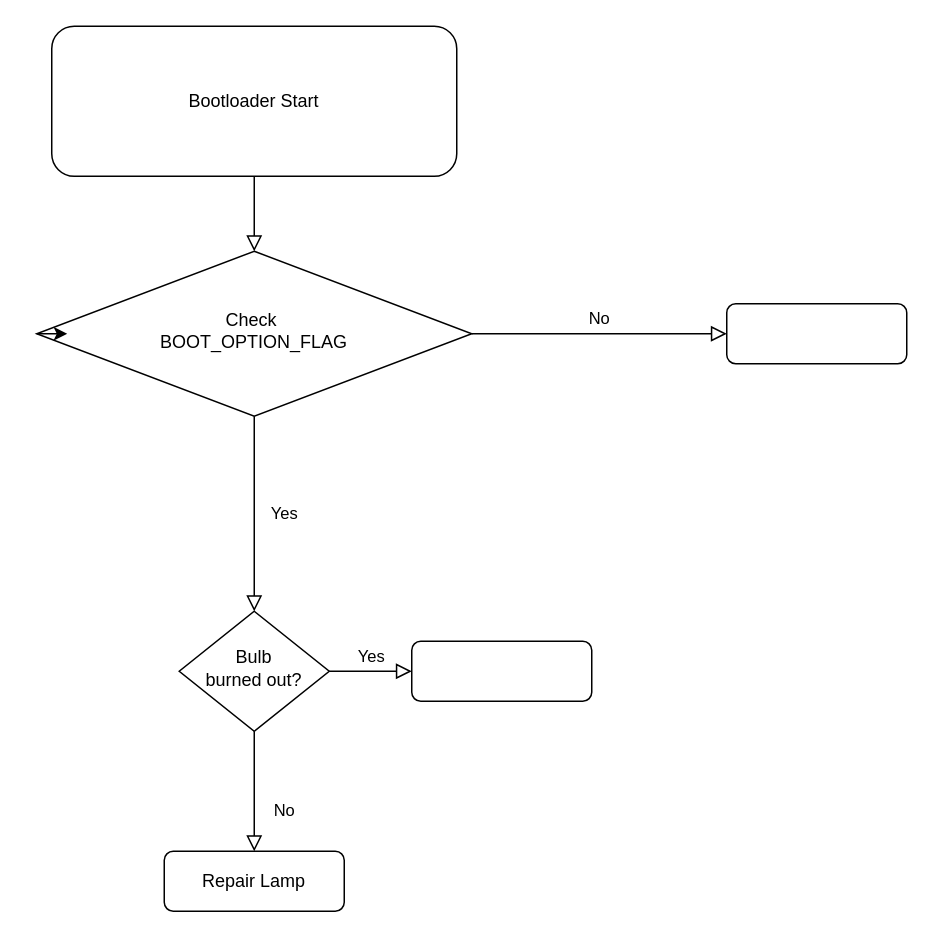
Some shapes in this 933 by 938 pixel diagram are drawn without their labels. Each missing label, with the centre of its shape:
"Plug in lamp" belongs at point (816, 333).
"Replace Bulb" belongs at point (501, 670).
